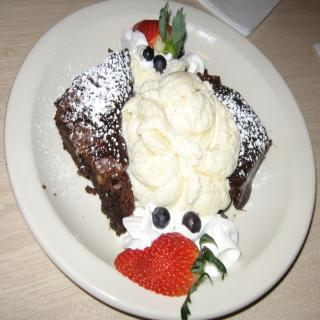Cake: (53, 46, 273, 235)
Ice cream: (123, 56, 239, 210)
